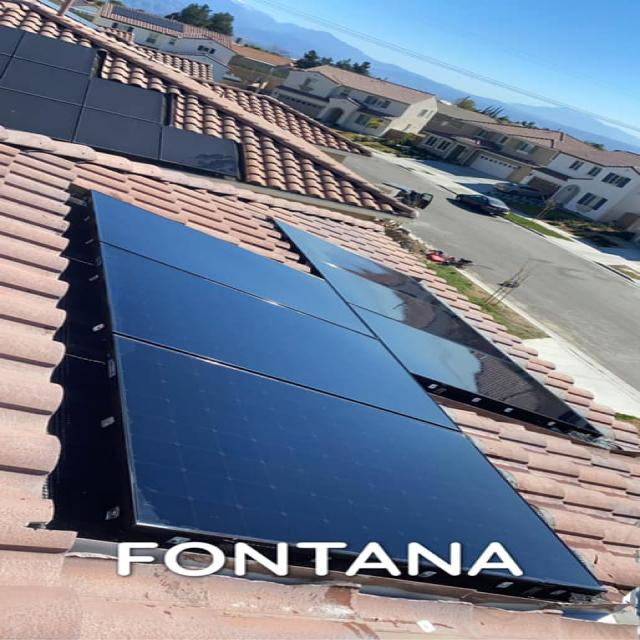clean-solar-panel: (93, 194, 598, 590), (280, 224, 586, 429)
